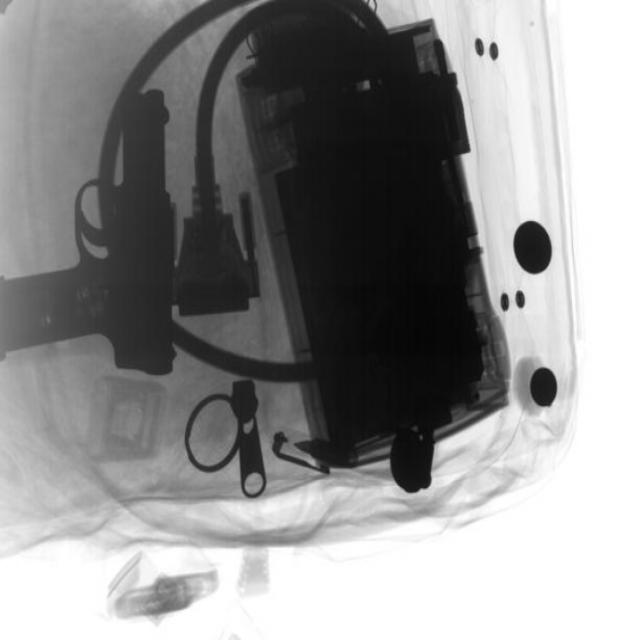GUN: (3, 85, 190, 379)
